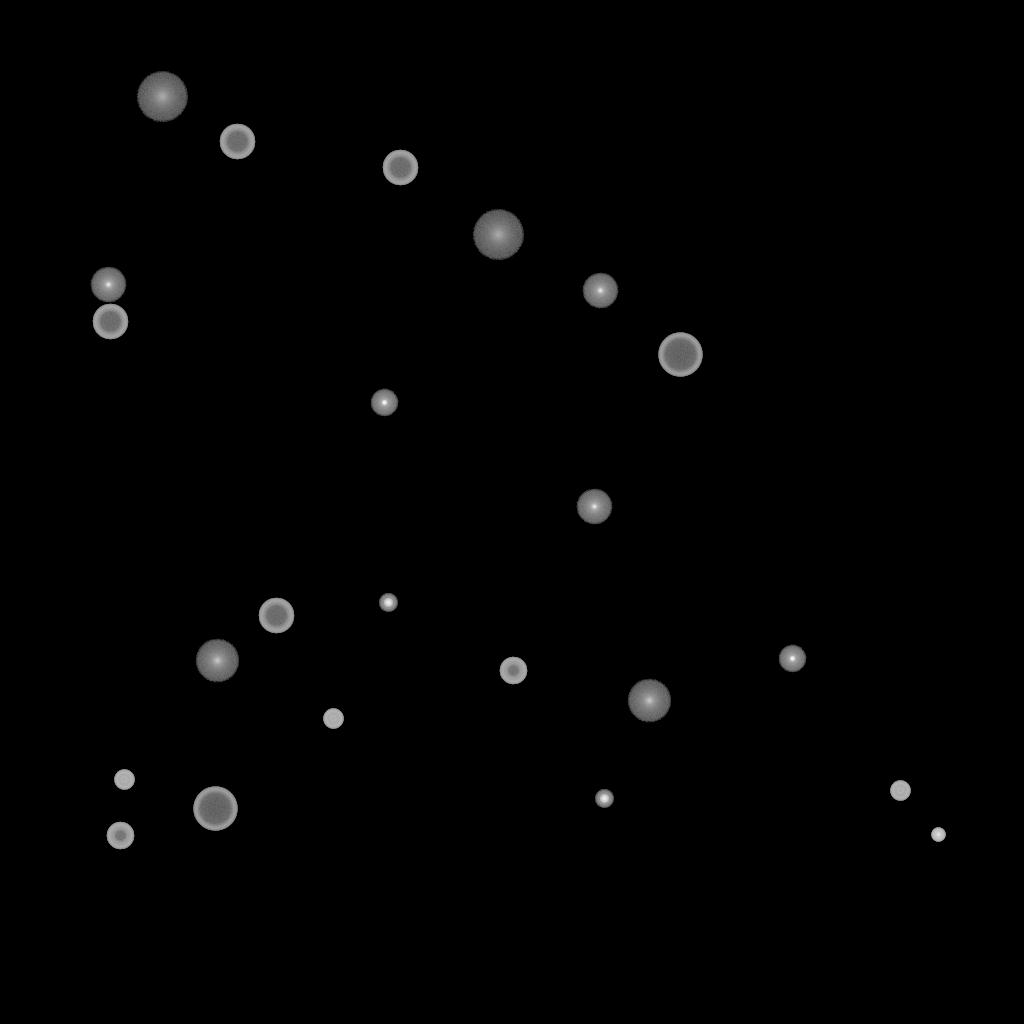depth:-10: (370, 389, 398, 417), (778, 645, 806, 673)
depth:-20: (595, 790, 613, 808), (379, 594, 397, 612)
depth:-30: (931, 828, 945, 842)
depth:-40: (114, 770, 134, 790), (890, 781, 910, 801), (323, 709, 343, 729)
depth:-50: (106, 822, 134, 850), (499, 657, 527, 685)
depth:-60: (258, 598, 294, 634), (382, 150, 418, 186), (219, 124, 255, 160), (92, 304, 128, 340)
depth:-70: (658, 333, 702, 377), (193, 787, 237, 831)
depth:0: (582, 273, 618, 309), (90, 267, 126, 303), (576, 489, 612, 525)
depth:10: (195, 639, 239, 683), (627, 679, 671, 723)
depth:20: (136, 72, 188, 122), (472, 210, 524, 260)
